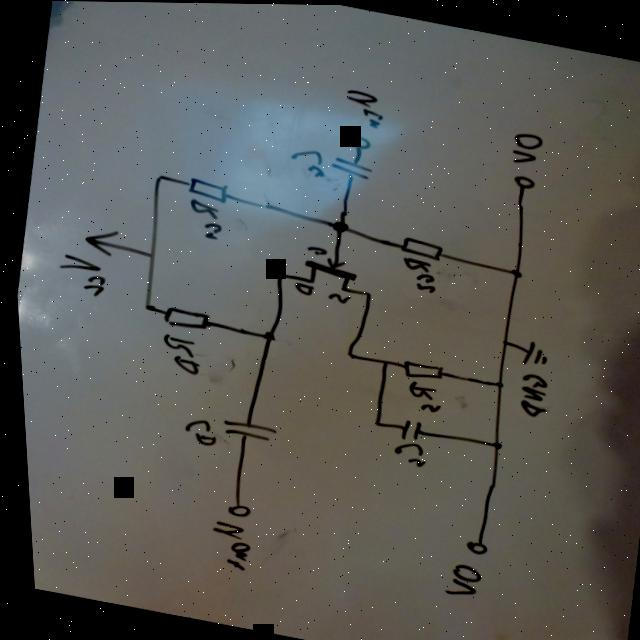capacitor: (213, 412, 273, 443), (325, 151, 373, 181), (392, 415, 418, 439)
ground: (513, 336, 546, 366)
junction: (325, 216, 348, 231), (503, 263, 521, 276), (255, 328, 273, 340), (135, 299, 152, 311), (356, 285, 370, 296), (337, 347, 351, 358), (487, 376, 500, 387), (269, 267, 282, 277), (484, 437, 497, 447), (141, 249, 154, 259), (150, 170, 163, 180), (365, 416, 377, 426), (494, 334, 505, 344), (374, 355, 385, 363)
resistor: (154, 303, 208, 331), (394, 232, 442, 260), (181, 173, 226, 201), (392, 355, 439, 380)
source: (76, 222, 117, 257)
terminal: (217, 498, 246, 518), (507, 169, 534, 190), (343, 130, 370, 150), (456, 536, 483, 554)
text: (49, 251, 105, 297), (197, 518, 246, 570), (151, 329, 201, 374), (507, 367, 549, 417), (338, 85, 386, 128), (179, 195, 223, 238), (434, 557, 477, 598), (392, 252, 437, 291), (283, 143, 327, 177), (398, 377, 439, 411), (506, 127, 542, 163), (174, 413, 213, 445), (384, 436, 423, 466), (287, 278, 312, 294), (301, 240, 325, 255), (321, 288, 346, 302)
transistor: (295, 249, 356, 293)
